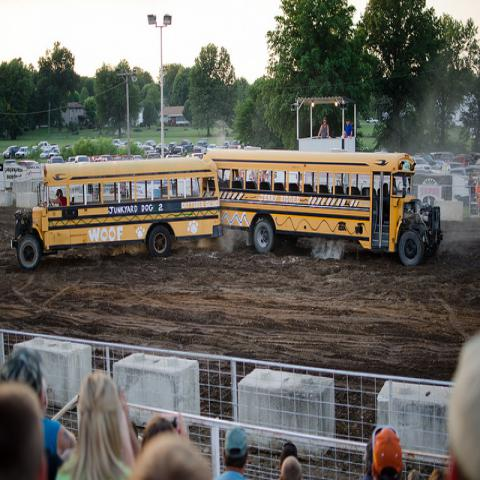bus: (204, 146, 444, 273), (11, 158, 223, 273)
car: (31, 129, 101, 163), (451, 153, 474, 167), (412, 158, 432, 172), (430, 152, 454, 163), (2, 144, 19, 158), (178, 139, 194, 152), (14, 147, 30, 159), (141, 144, 157, 155), (39, 147, 52, 160), (191, 152, 205, 161), (422, 155, 433, 164), (51, 156, 64, 163), (207, 144, 218, 152), (145, 153, 161, 158)
